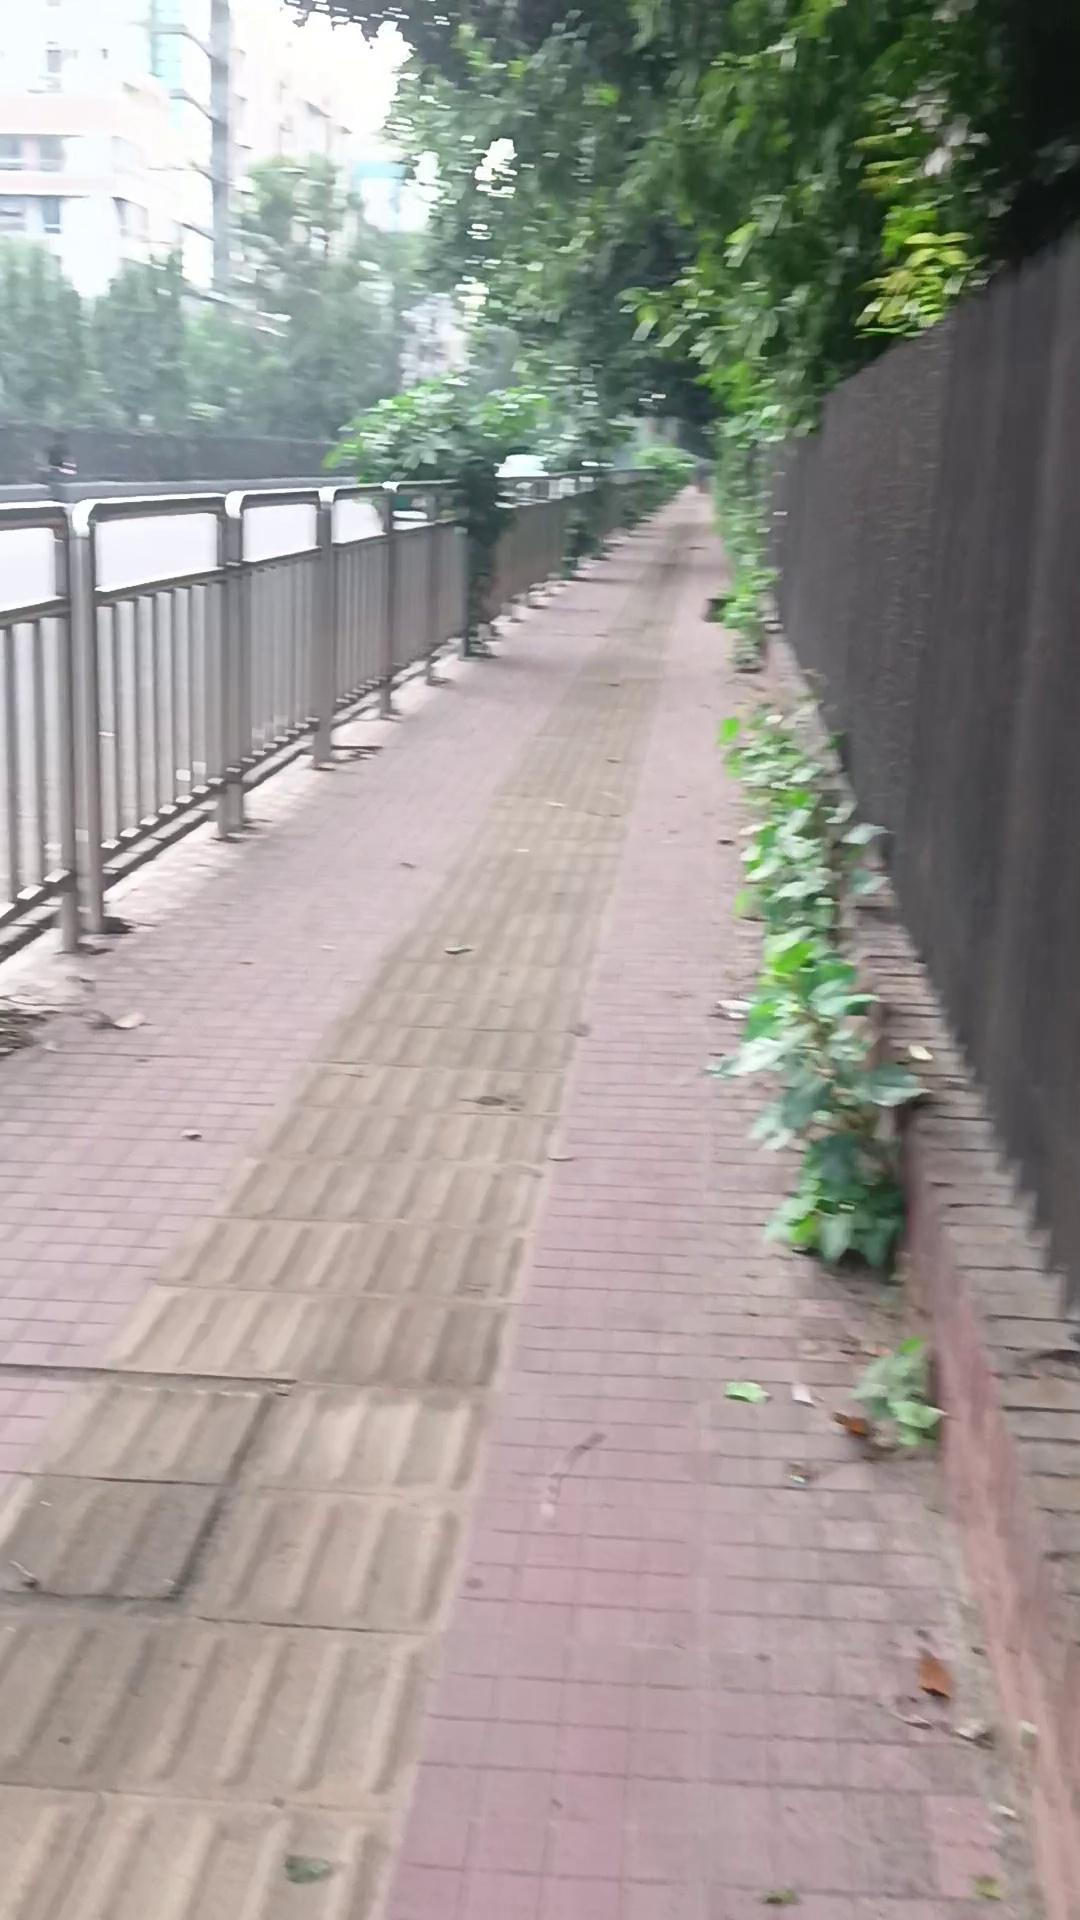Muddy road: (451, 455, 516, 654)
Potted-plant: (3, 458, 1080, 1920)
